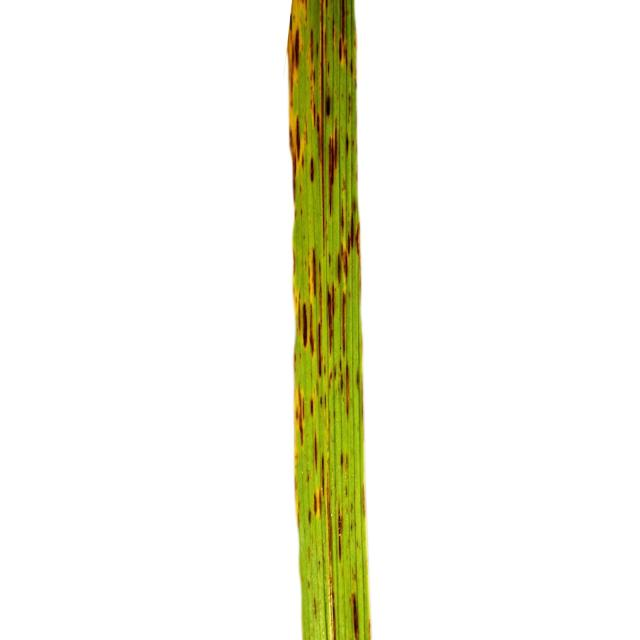Narrow brown: (253, 0, 458, 640)
